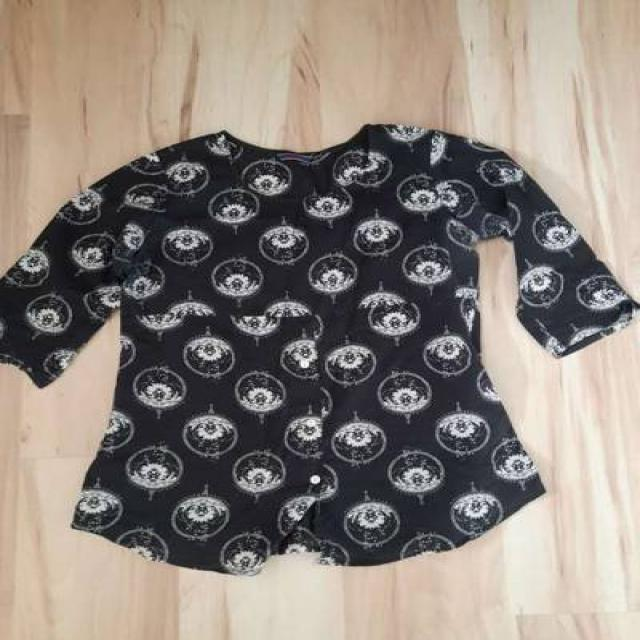Clothes -Biodegradable-: (0, 121, 637, 575)
